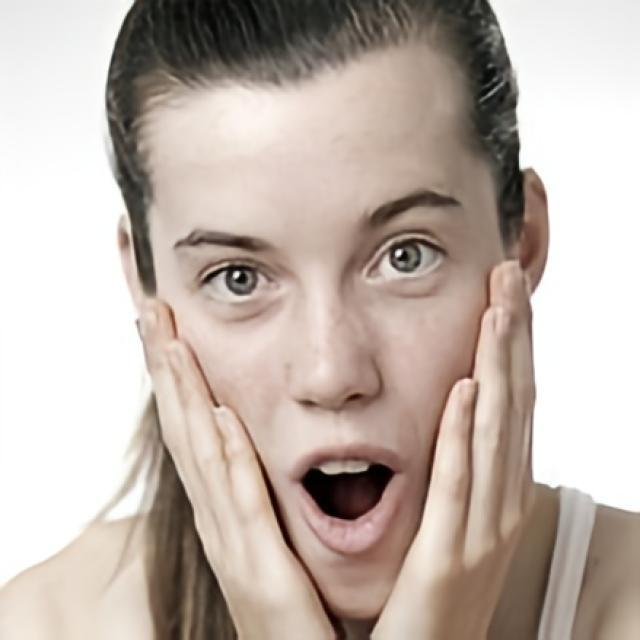surprise: (140, 37, 504, 626)
